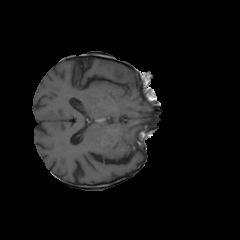glioma: (95, 61, 150, 98)
